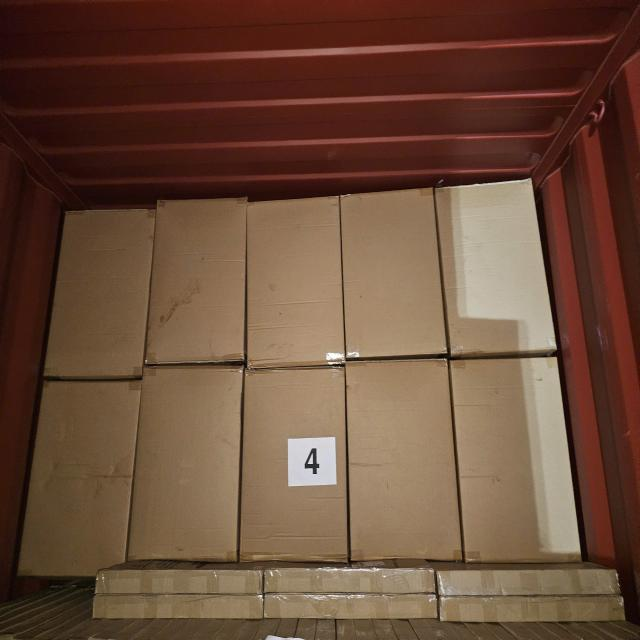Carton: (450, 353, 566, 566), (349, 352, 460, 562), (17, 382, 130, 586), (242, 358, 348, 564), (133, 357, 236, 562), (434, 184, 544, 360), (343, 184, 447, 362), (244, 191, 344, 366), (54, 203, 152, 378), (150, 196, 248, 364), (437, 591, 628, 622), (437, 566, 622, 595), (264, 592, 438, 622), (94, 568, 264, 598), (262, 567, 436, 595), (93, 592, 265, 619)
